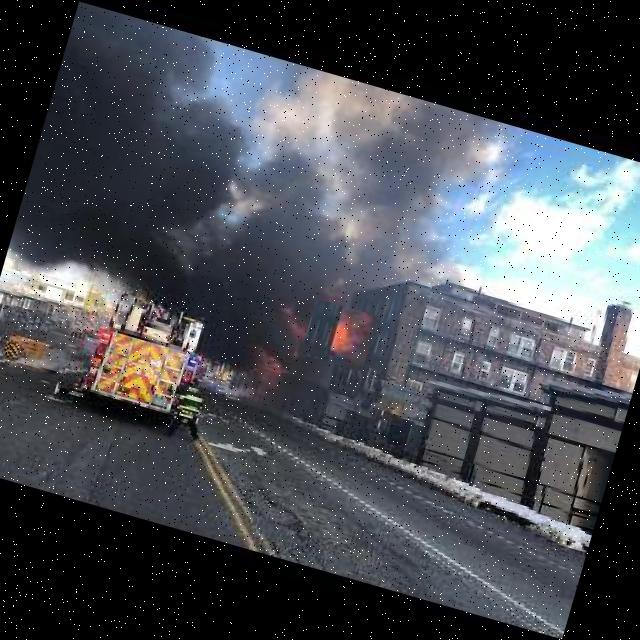fire: (300, 298, 378, 371)
